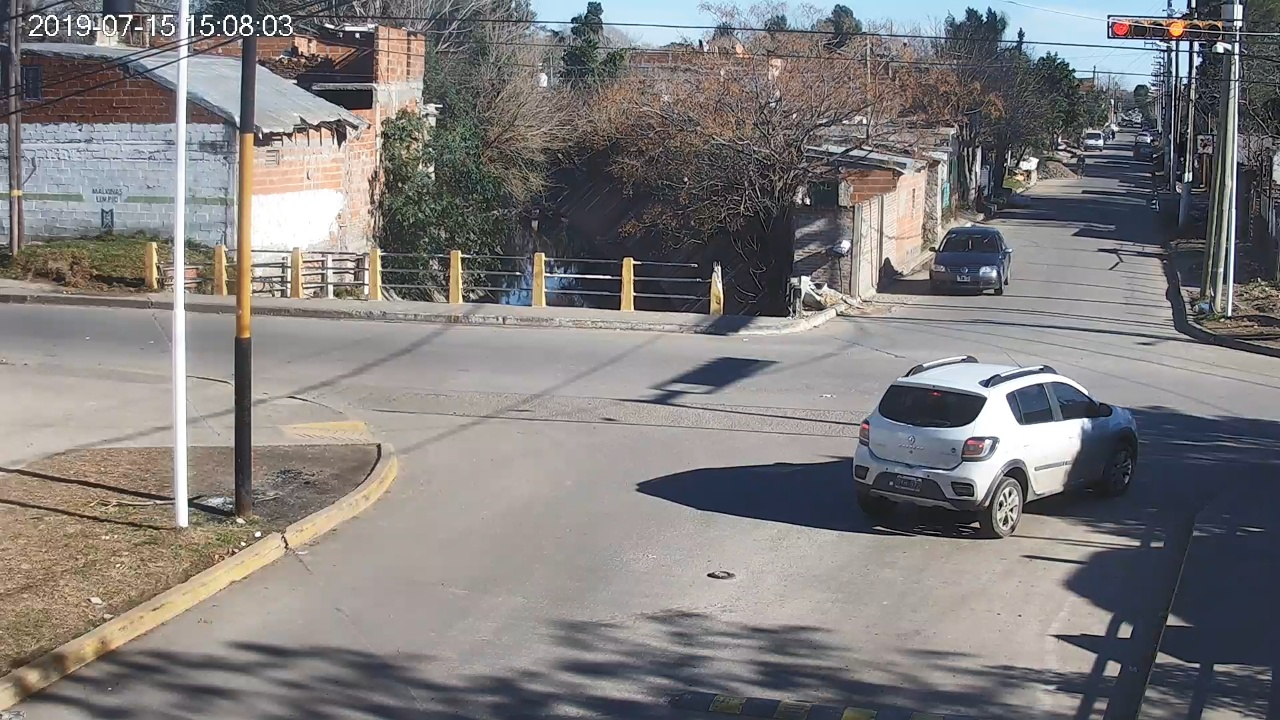front car: (930, 223, 1012, 295)
traffic light: (1111, 18, 1222, 41)
